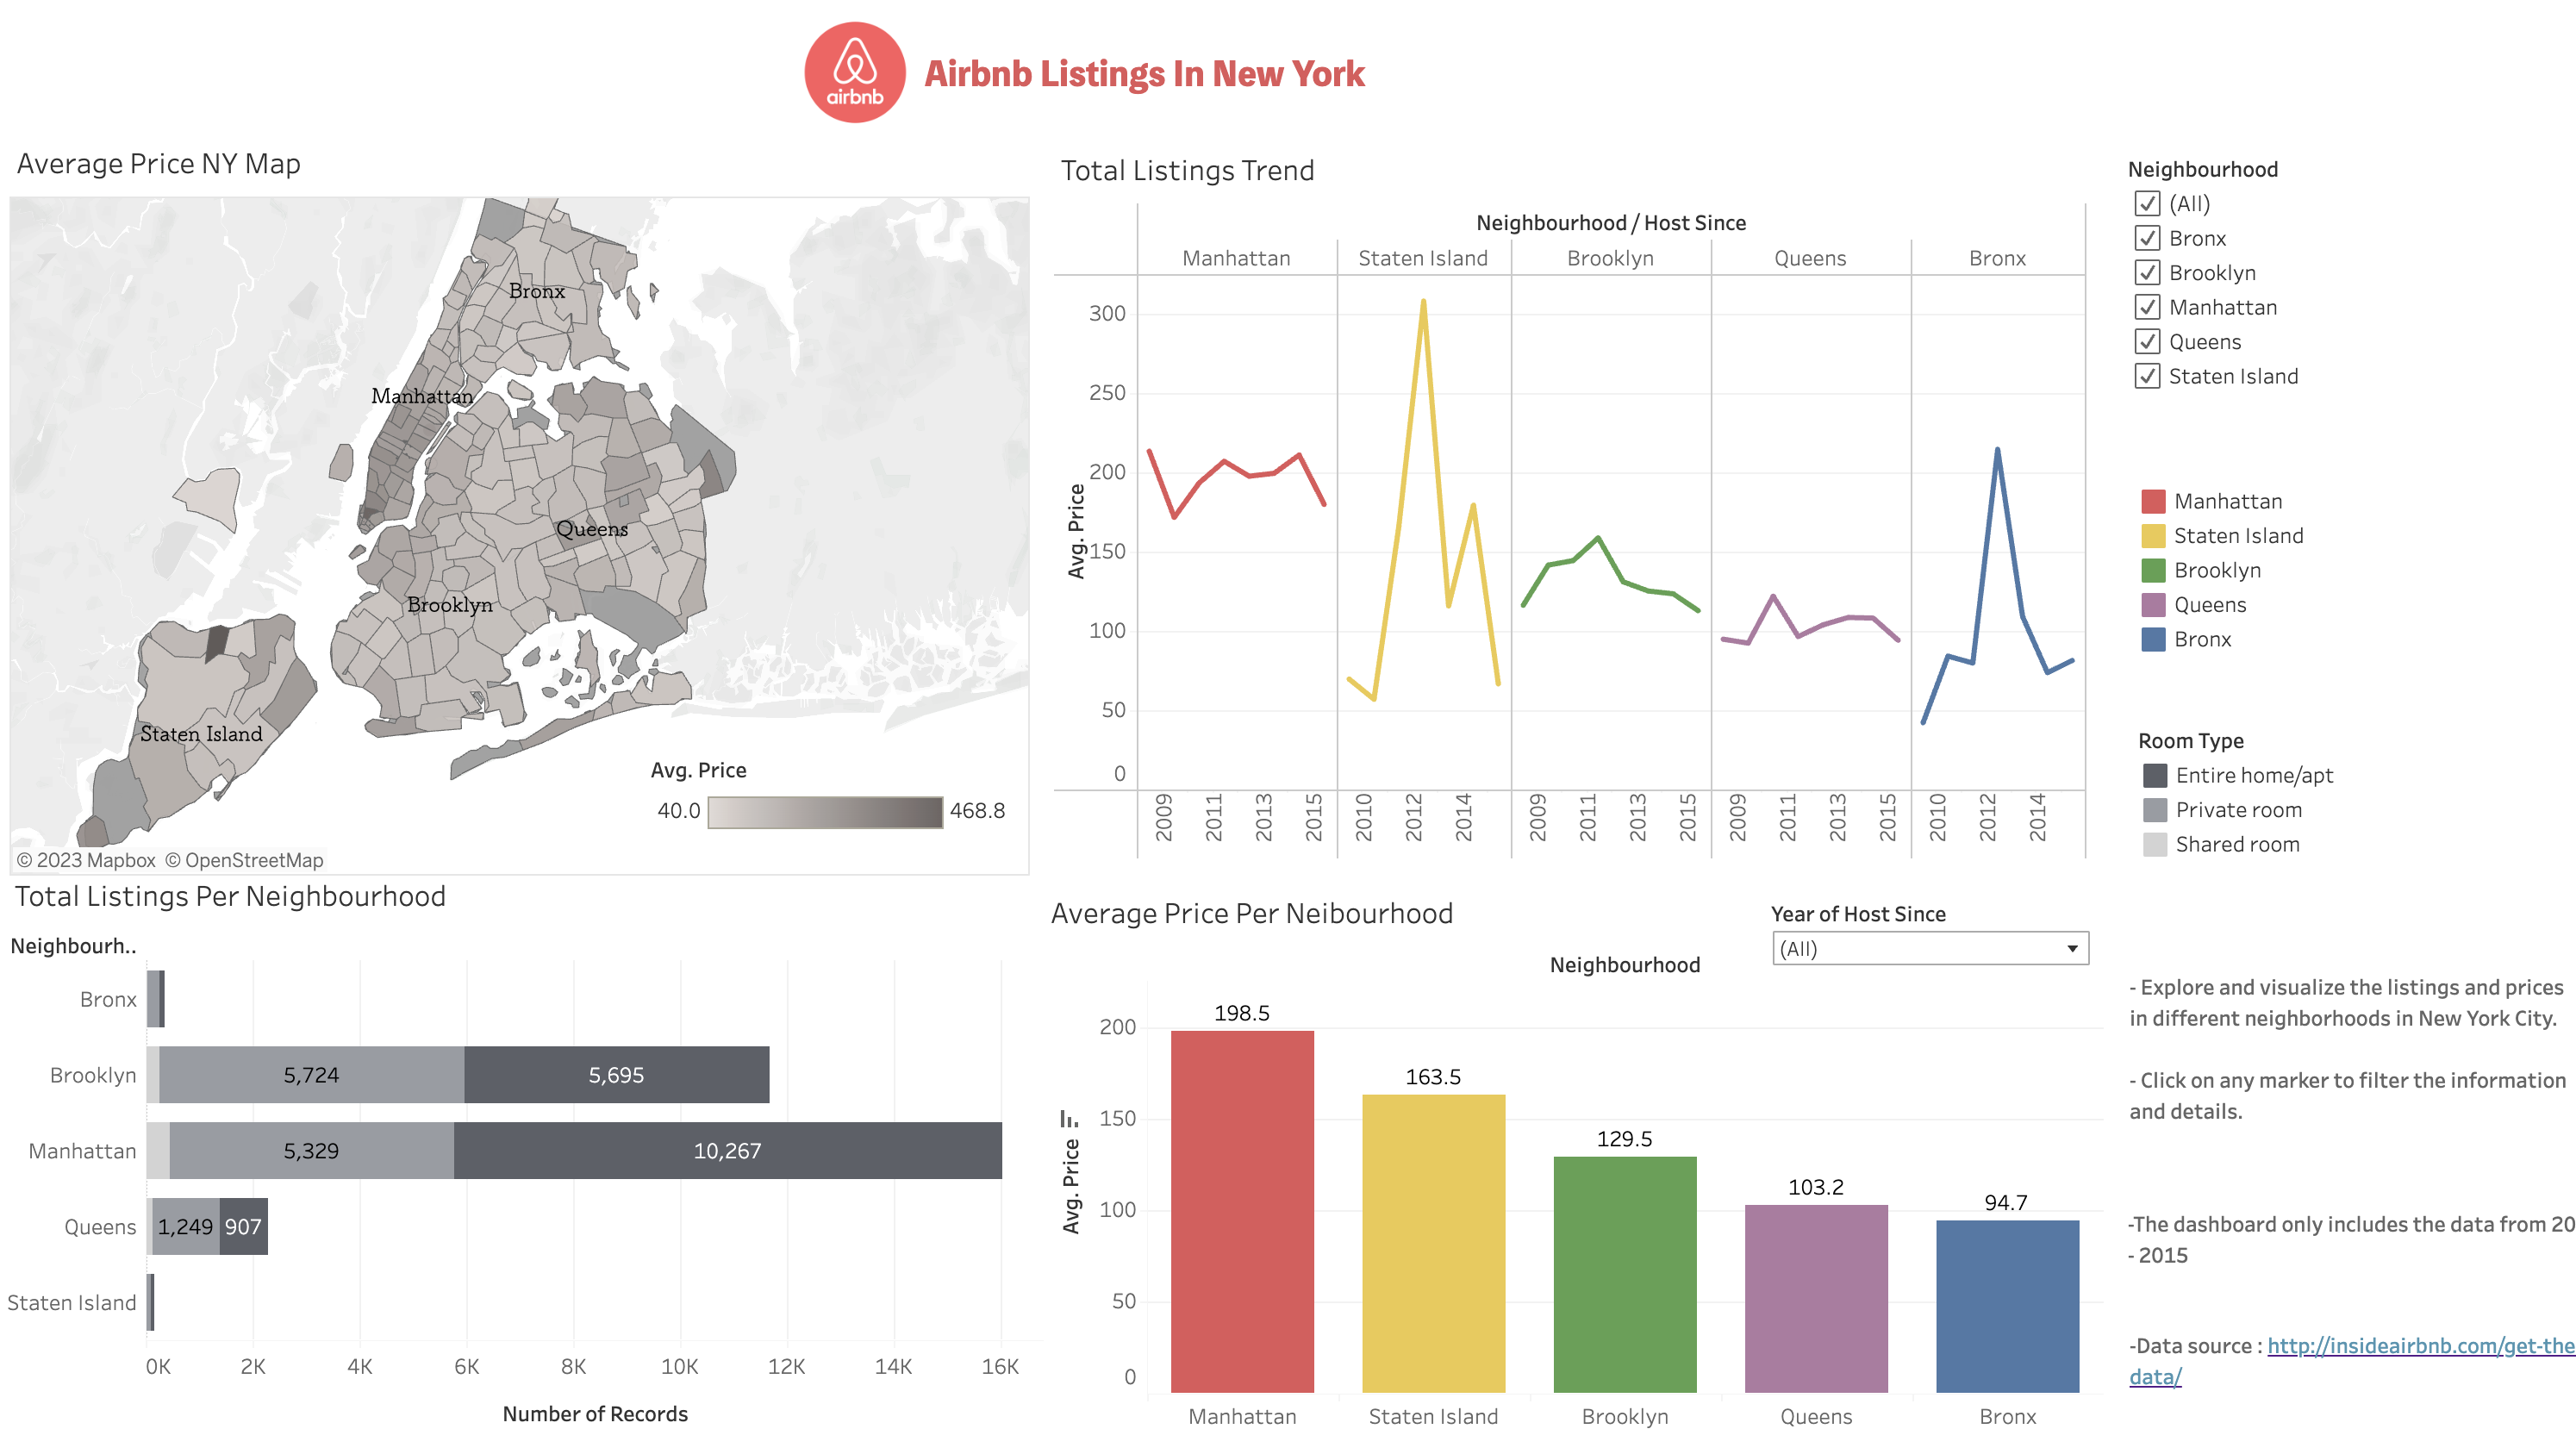

The page's visual inventory and layout, read from the dashboard file:
{"tool":"tableau","page":{"name":"Dashboard 2","canvas":[1000,1000],"units":"permille","ordinal":0},"visuals":[{"type":"text","box":[365.9,35.2,289,74.3]},{"type":"image","param":"Image/airbnb-logo.png","box":[310.5,36.5,71.5,70.4]},{"type":"worksheet","title":"Sheet 1","mark":"Multipolygon","box":[14.6,108.2,396.6,451.1]},{"type":"worksheet","title":"Sheet 4","mark":"Line","rows":["Price"],"cols":["Host Since"],"box":[415.1,113.4,363.6,456.3]},{"type":"filter","title":"Sheet 6","param":"[federated.10j02191uofabl14ibhyy0c0klkb].[none:Neighbourhood:nk]","box":[817.8,125.2,123,179.9]},{"type":"legend","title":"Sheet 4","param":"[federated.10j02191uofabl14ibhyy0c0klkb].[none:Neighbourhood:nk]","box":[820.9,282.9,107.6,153.8]},{"type":"legend","title":"Sheet 5","param":"[federated.10j02191uofabl14ibhyy0c0klkb].[none:Room Type:nk]","box":[821.7,439.4,107.6,101.7]},{"type":"legend","title":"Sheet 1","param":"[federated.10j02191uofabl14ibhyy0c0klkb].[avg:Price:qk]","box":[268.3,493.4,139.9,94.5]},{"type":"text","box":[812.5,554.1,171.4,194.3]},{"type":"worksheet","title":"Sheet 6","mark":"Automatic","rows":["Price"],"cols":["Neighbourhood"],"box":[425.1,569.8,374.3,401.6]},{"type":"worksheet","title":"Sheet 5","mark":"Automatic","rows":["Neighbourhood"],"cols":["Number of Records"],"box":[13.8,572.4,398.2,397.7]},{"type":"text","box":[813.2,721,183.7,63.9]},{"type":"text","box":[813.2,787.5,186,78.2]}]}

Visuals, with their boxes on the dashboard's canvas, which has no fixed pixel size, in thousandths of its width and height (x1, y1, x2, y2). These are canvas units, not pixel positions in the 2576x1454 screenshot, which may show the page scaled, cropped or inside an application window:
text: {"left": 366, "top": 35, "right": 655, "bottom": 110}
image: {"left": 310, "top": 36, "right": 382, "bottom": 107}
"Sheet 1" worksheet (Multipolygon marks): {"left": 15, "top": 108, "right": 411, "bottom": 559}
"Sheet 4" worksheet (Line marks): {"left": 415, "top": 113, "right": 779, "bottom": 570}
"Sheet 6" filter: {"left": 818, "top": 125, "right": 941, "bottom": 305}
"Sheet 4" legend: {"left": 821, "top": 283, "right": 928, "bottom": 437}
"Sheet 5" legend: {"left": 822, "top": 439, "right": 929, "bottom": 541}
"Sheet 1" legend: {"left": 268, "top": 493, "right": 408, "bottom": 588}
text: {"left": 812, "top": 554, "right": 984, "bottom": 748}
"Sheet 6" worksheet: {"left": 425, "top": 570, "right": 799, "bottom": 971}
"Sheet 5" worksheet: {"left": 14, "top": 572, "right": 412, "bottom": 970}
text: {"left": 813, "top": 721, "right": 997, "bottom": 785}
text: {"left": 813, "top": 788, "right": 999, "bottom": 866}
